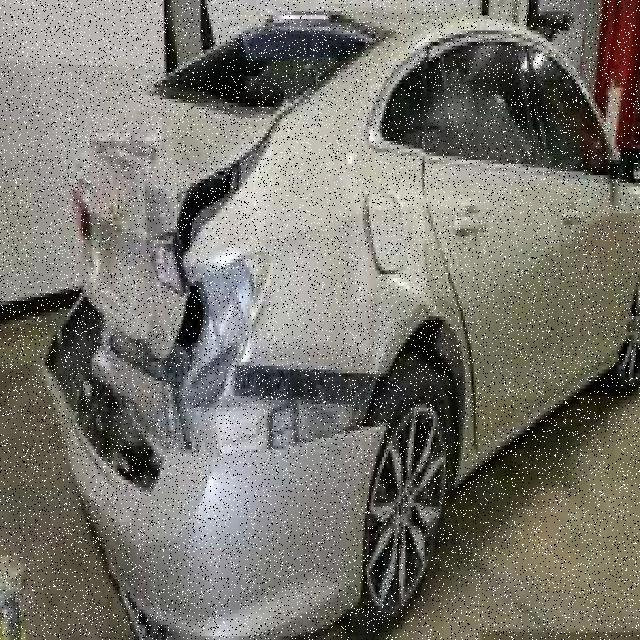quaterpanel-dent: (231, 133, 428, 427)
rear-bumper-dent: (59, 388, 387, 632)
